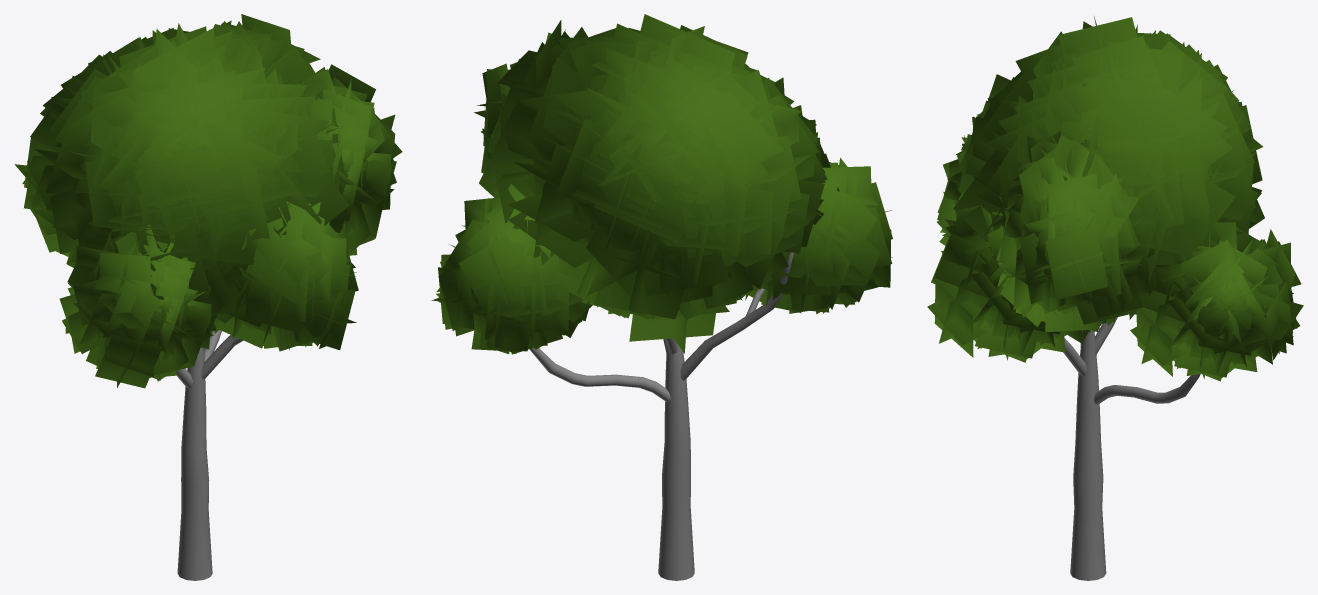
The model's file is SM_tree_cherry.fbx.
The picture shows the model from 3 angles, left to right: view 1: azimuth 30°, elevation 25°; view 2: azimuth 150°, elevation 25°; view 3: azimuth 270°, elevation 25°; orthographic projection. The views are drawn at different scales.
Visible parts, largest first — view 1: Line186; view 2: Line186; view 3: Line186.
Boxes of the visible parts, left/top/right/bottom form: Line186: left=14, top=14, right=402, bottom=580; Line186: left=431, top=14, right=892, bottom=580; Line186: left=927, top=16, right=1303, bottom=580.
Size of the model in its own units: 169 by 246 by 153.
